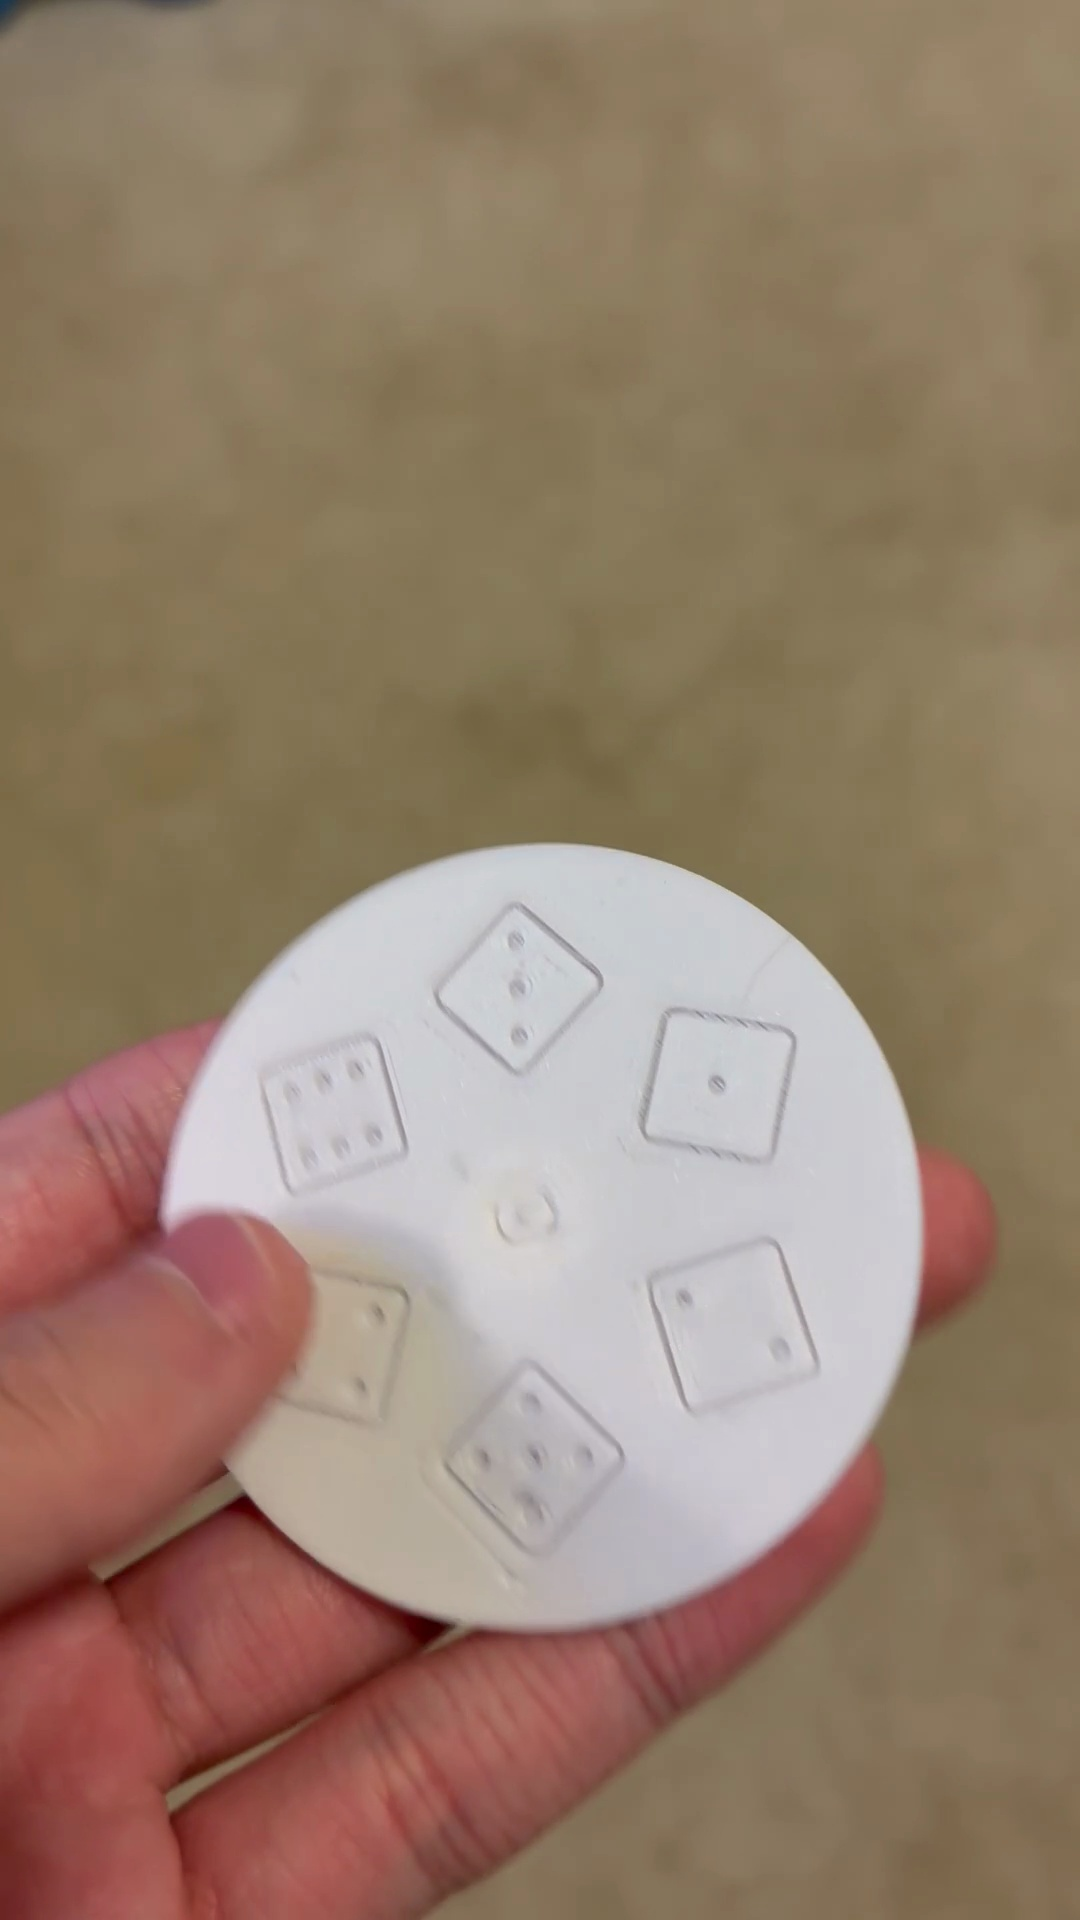Part1: (162, 845, 920, 1631)
